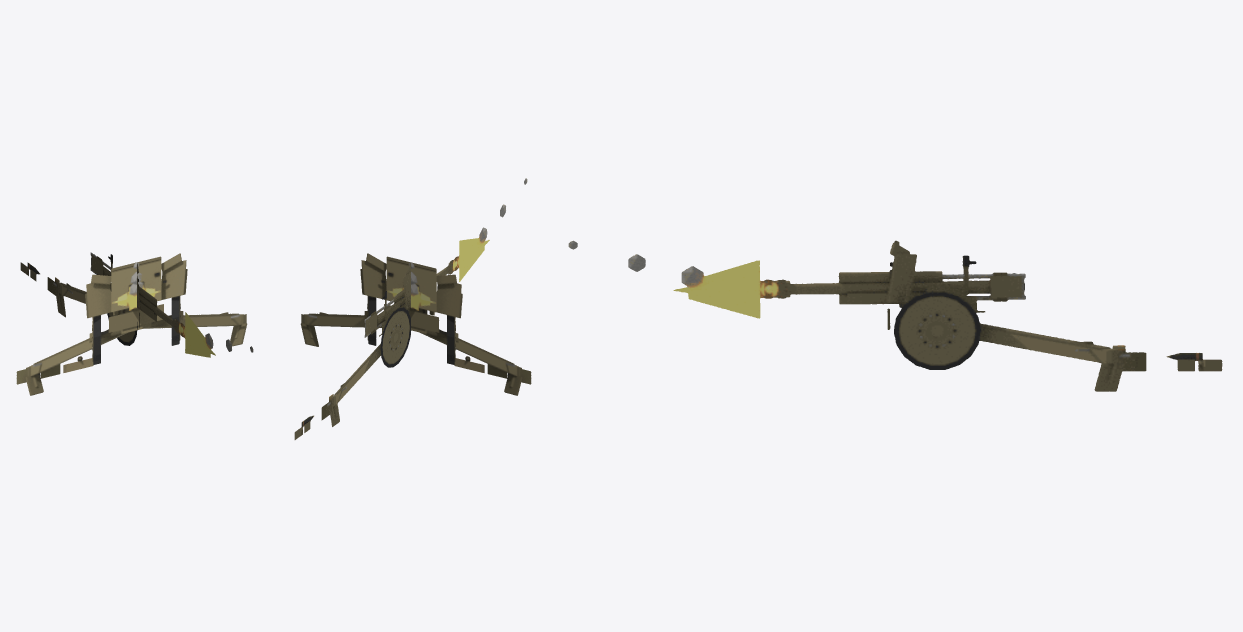
The model's file is lefh18_pjas_web_mobil_bb.glb.
3 views of the same model, side by side, from view 1: azimuth 30°, elevation 25°; view 2: azimuth 150°, elevation 25°; view 3: azimuth 270°, elevation 25° (orthographic). The views are drawn at different scales.
Visible parts, largest first — view 1: lefh18_pjas_web_mobil_bb; view 2: lefh18_pjas_web_mobil_bb; view 3: lefh18_pjas_web_mobil_bb.
Part boxes in pixels (<box>): lefh18_pjas_web_mobil_bb: <box>16,252,253,395</box>; lefh18_pjas_web_mobil_bb: <box>294,178,531,439</box>; lefh18_pjas_web_mobil_bb: <box>568,240,1222,391</box>.
Size of the model in its own units: 5 by 8.38 by 8.38.
Materials: 1 (1 with a texture image).
